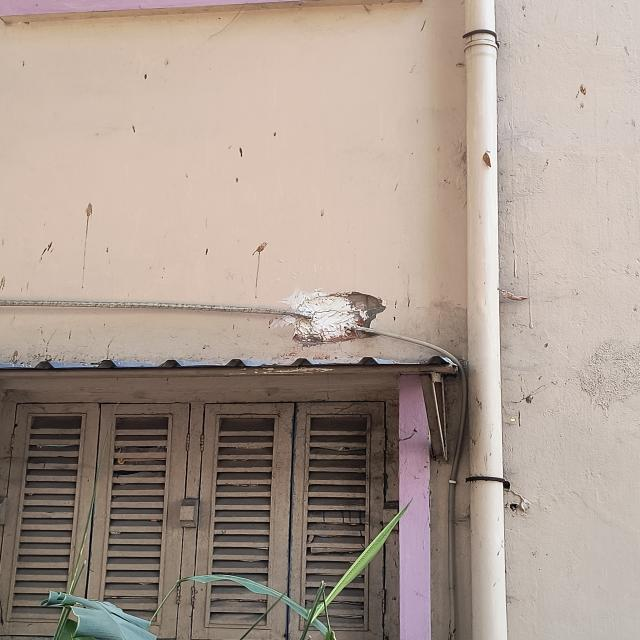Scaling: (270, 290, 385, 346)
